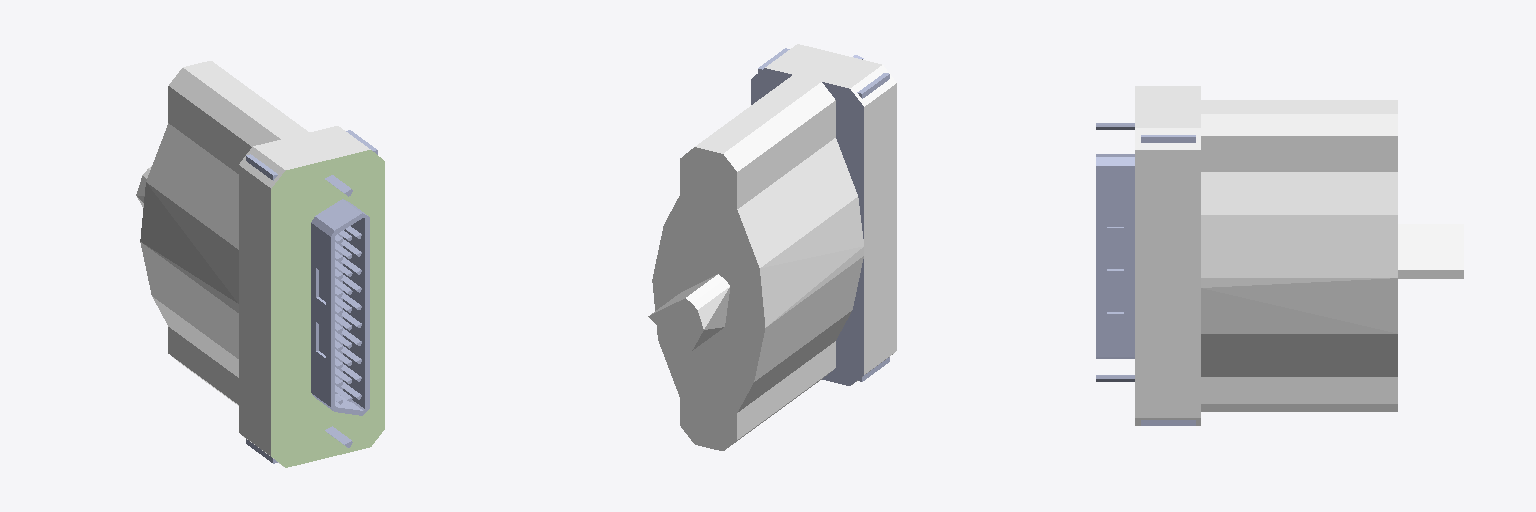
File: EnsamblajeVGACable.obj
3 views of the same model, side by side, from view 1: azimuth 30°, elevation 25°; view 2: azimuth 150°, elevation 25°; view 3: azimuth 270°, elevation 25° (orthographic).
Parts seen in each view (by area): view 1: mesh 3 Saliente-Extruir4, mesh 2 Redondeo2 face, mesh 1 VGA_cable-1; view 2: mesh 3 Saliente-Extruir4, mesh 1 VGA_cable-1; view 3: mesh 3 Saliente-Extruir4, mesh 1 VGA_cable-1.
Boxes of the visible parts, <box> form: mesh 3 Saliente-Extruir4: <box>136,61,370,466</box>; mesh 2 Redondeo2 face: <box>271,150,384,467</box>; mesh 1 VGA_cable-1: <box>246,130,377,463</box>; mesh 3 Saliente-Extruir4: <box>648,44,896,450</box>; mesh 1 VGA_cable-1: <box>751,48,889,385</box>; mesh 3 Saliente-Extruir4: <box>1135,86,1463,425</box>; mesh 1 VGA_cable-1: <box>1096,123,1195,425</box>.
Size of the model in its own units: 0.002 by 0.005 by 0.0056.